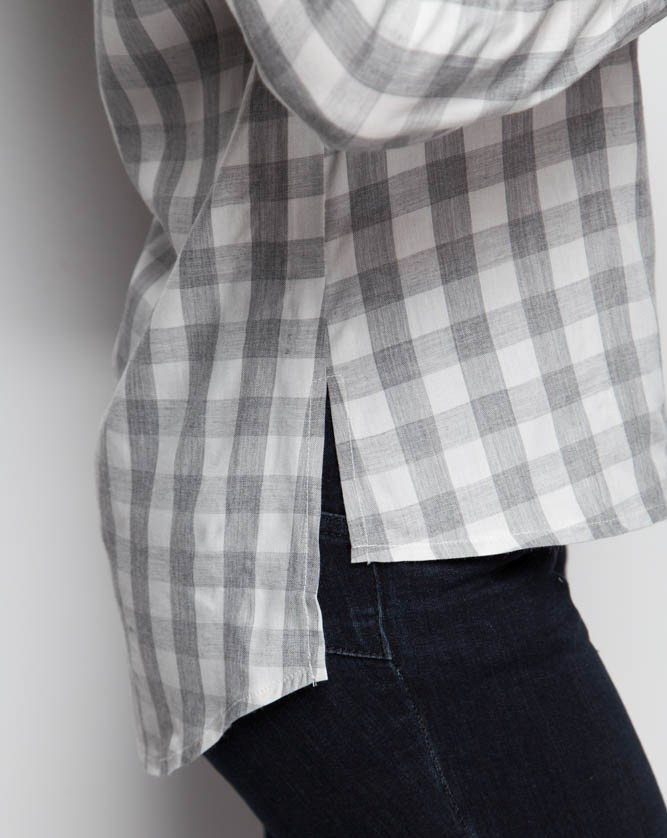squared: (76, 5, 662, 776)
